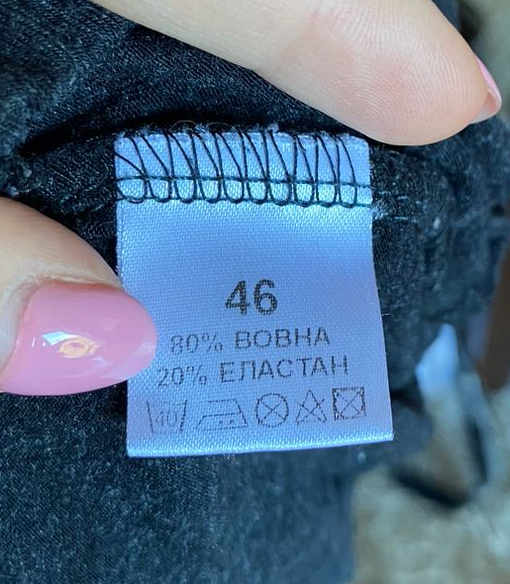do_not_bleach: (294, 386, 328, 428)
do_not_dry_clean: (253, 391, 293, 431)
do_not_tumble_drying: (329, 384, 370, 423)
ironing_at_med_temp: (191, 396, 251, 434)
wash_at_or_below_40: (143, 396, 191, 438)
